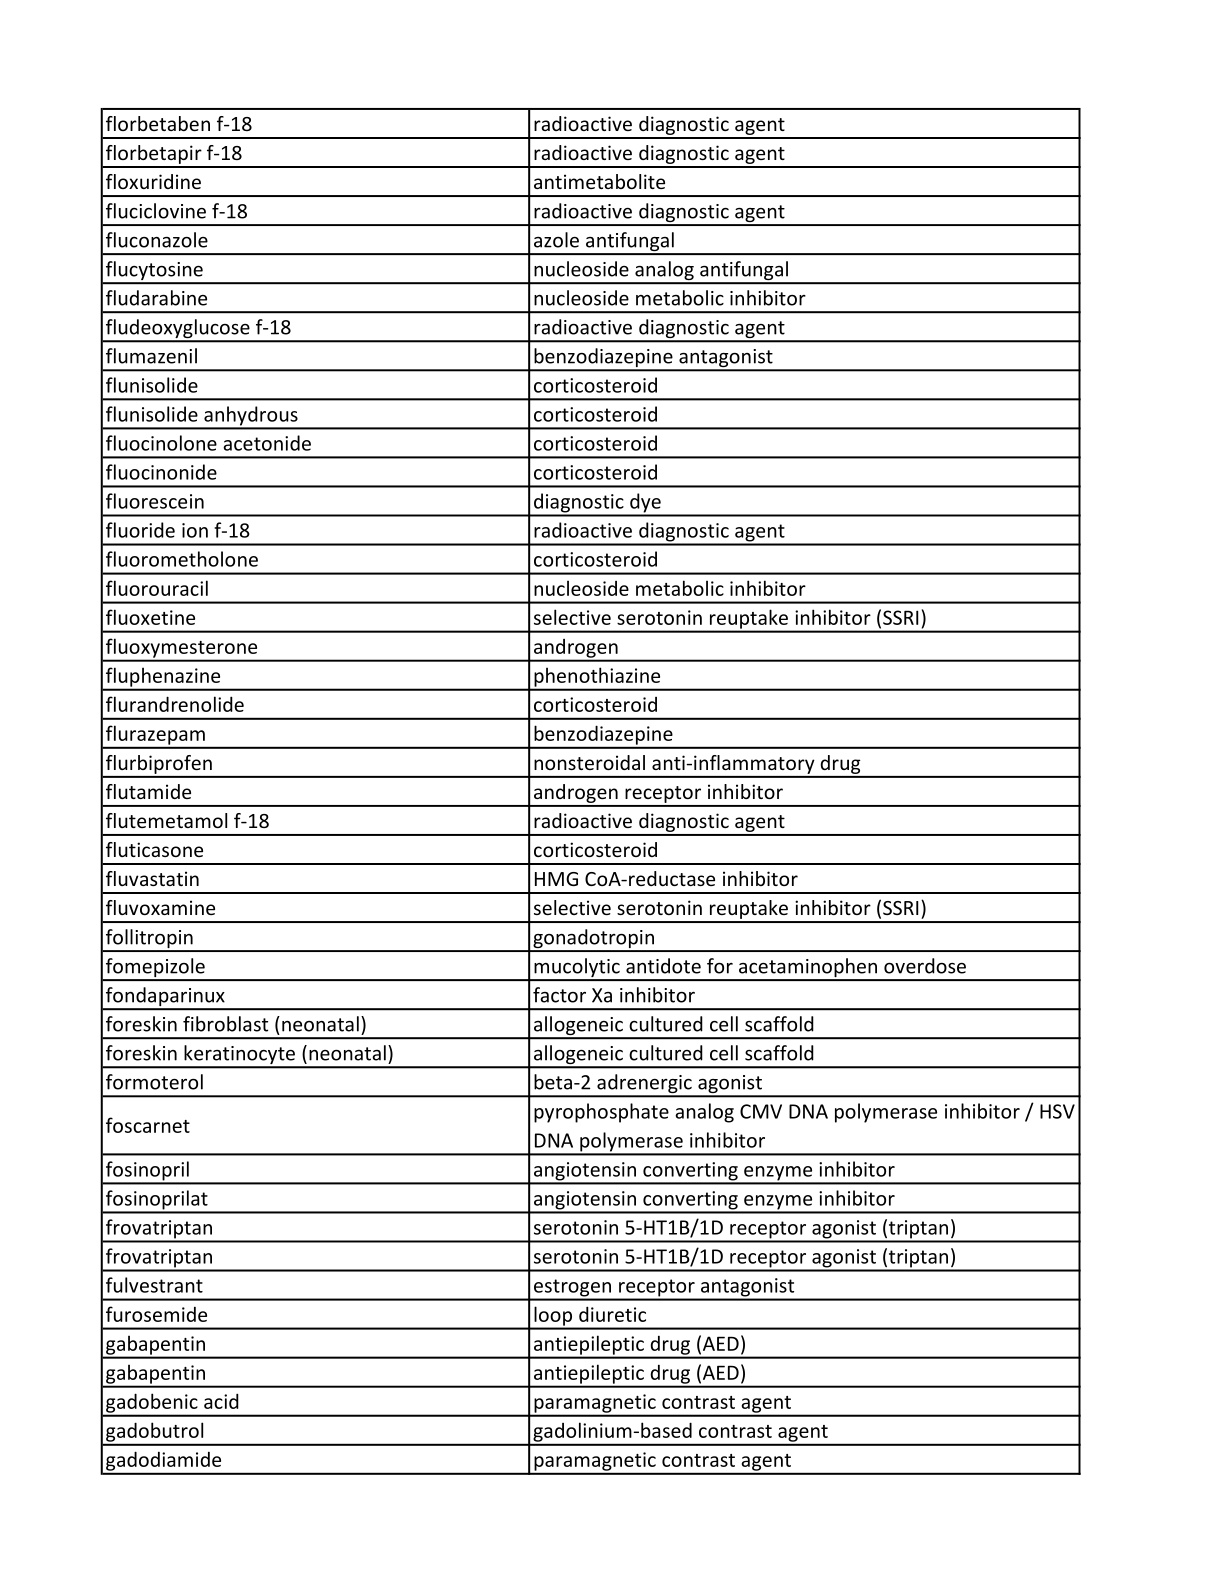full_lined: (99, 108, 1081, 1477)
